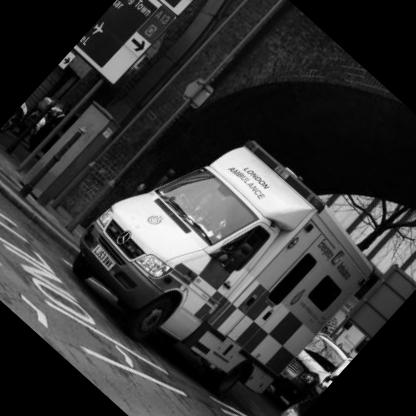ambulance: (30, 66, 416, 416)
